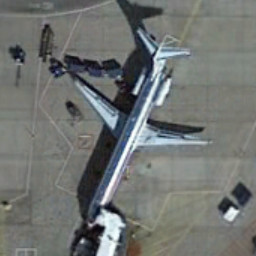Airplane: (51, 15, 221, 238)
